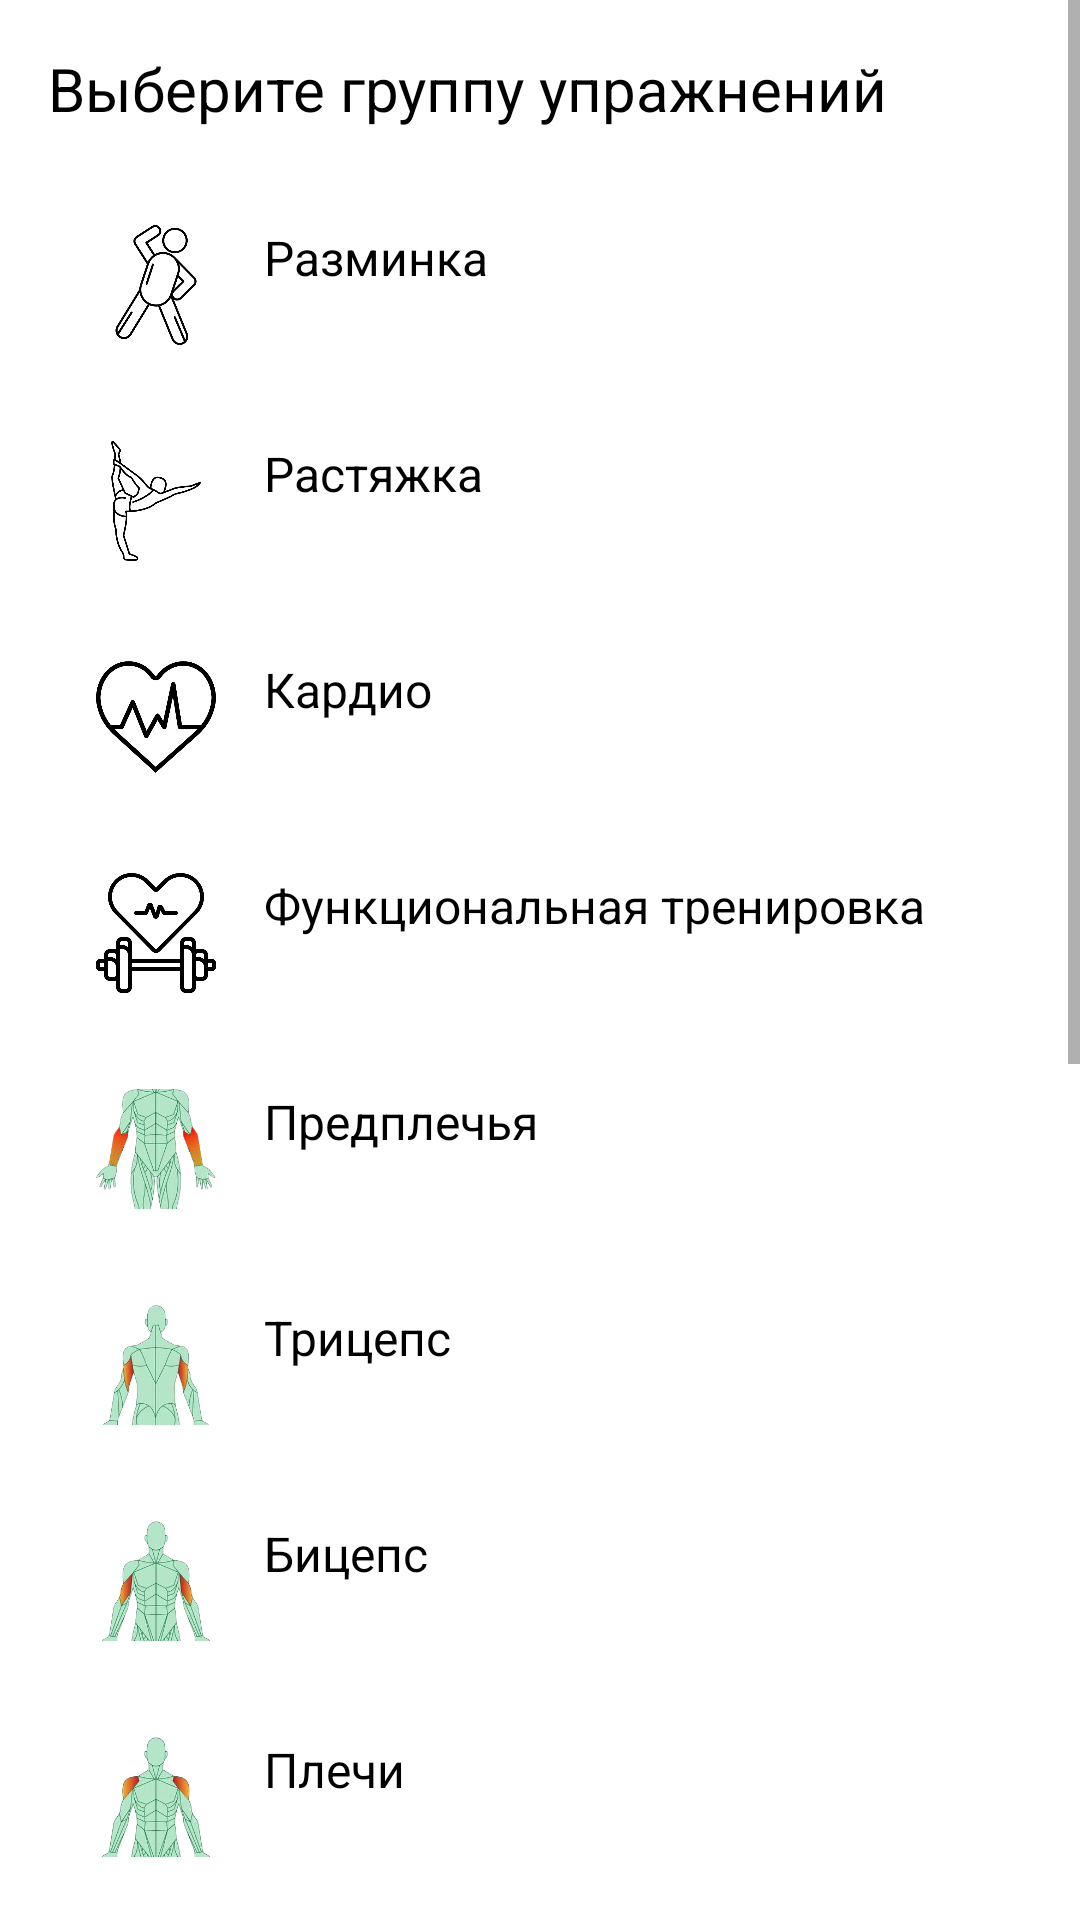

Icons on this 1080px×1920px Android screen, each with the point to tap as [x,y]:
biceps: [156,1581]
cardio: [156,717]
forearms: [156,1149]
functional: [156,933]
shoulders: [156,1797]
stretching: [156,501]
triceps: [156,1365]
warmup: [156,285]
